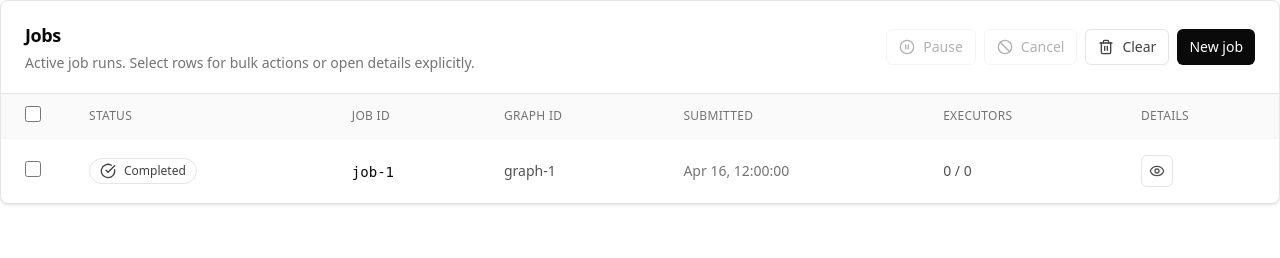
Test case: Jobs Component › clears non-running jobs and refreshes the list
Expected: the text "job-1" is shown, [352,164,394,180]
Click the button "Clear": (1127, 47) [1085,29,1169,65]
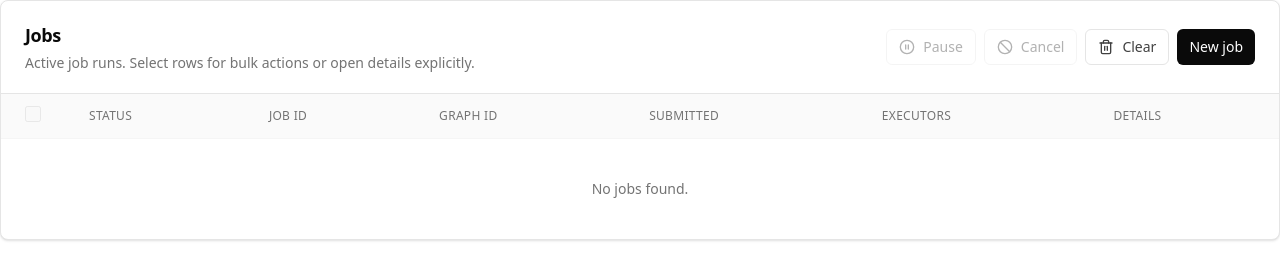
Expected: the text "No jobs found." is shown, [1,138,1279,239]
